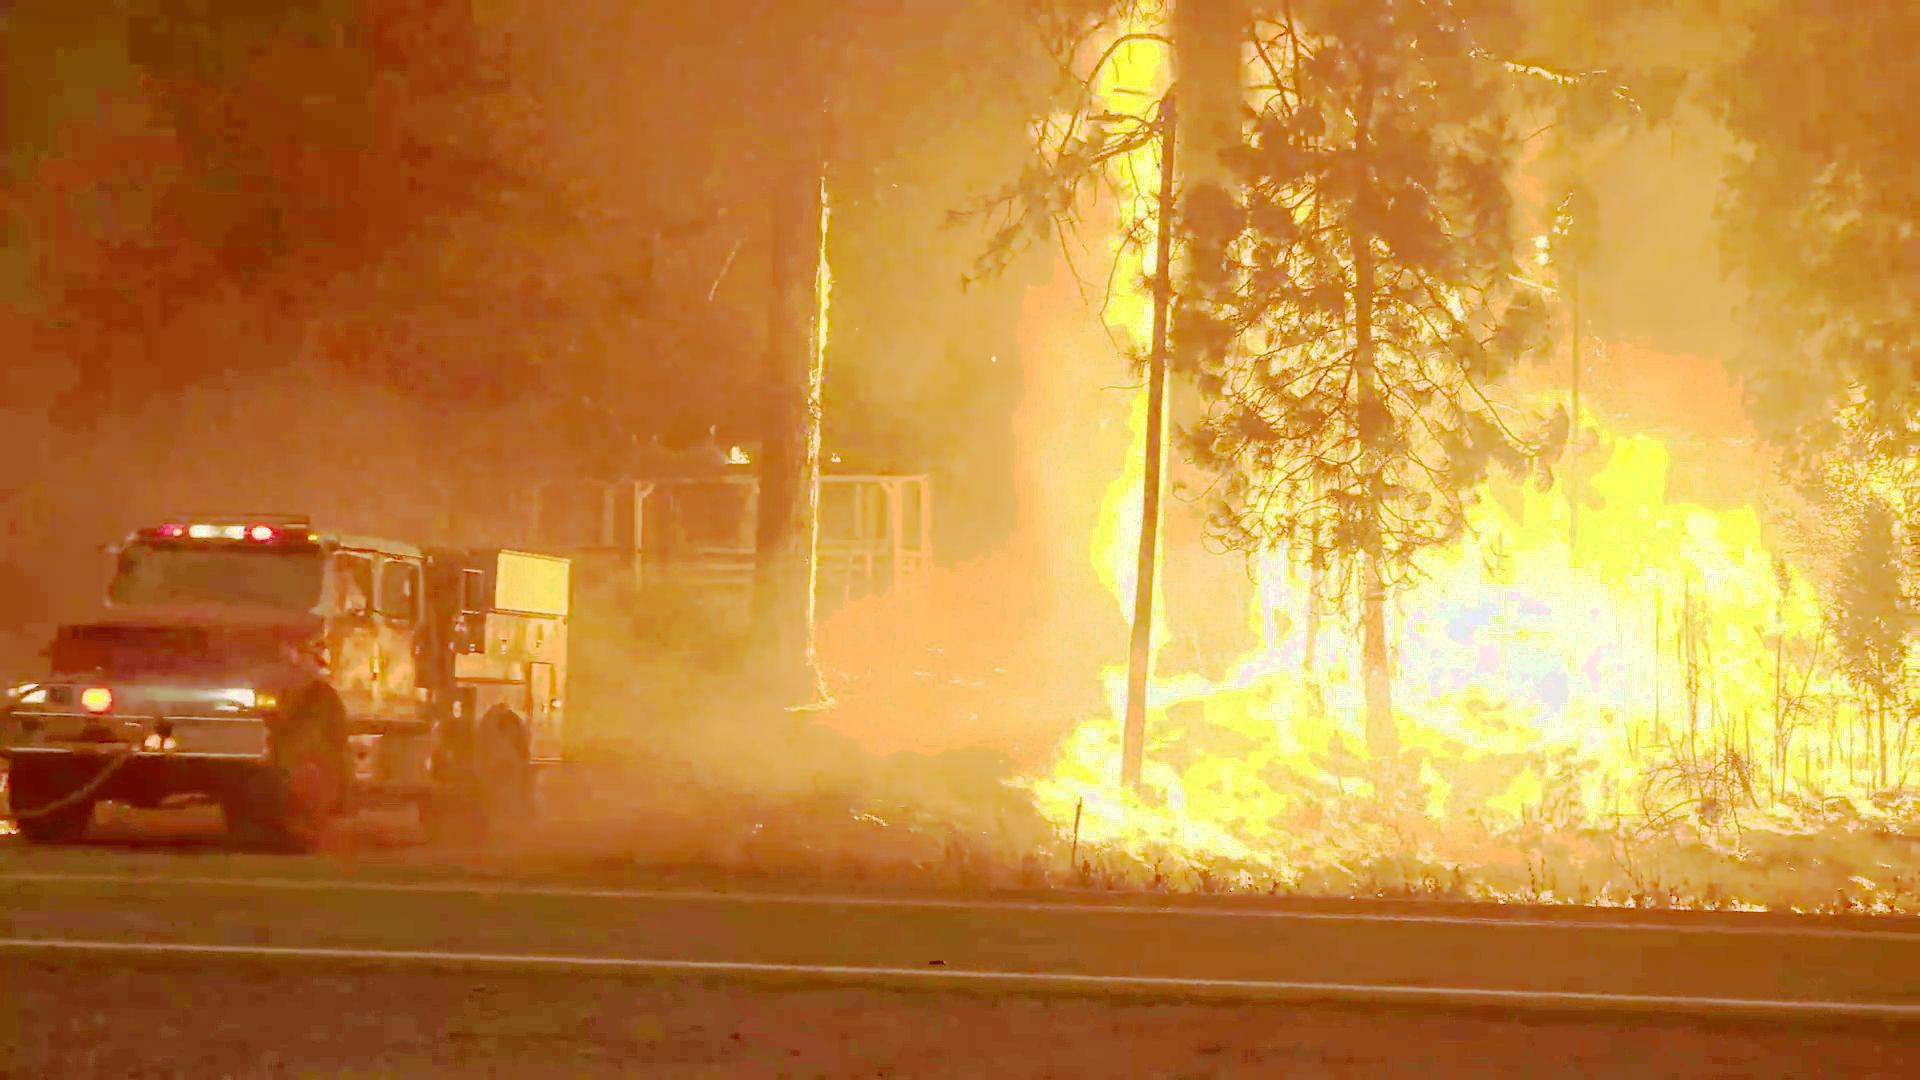fire: (1356, 410, 1783, 835), (1085, 0, 1153, 819), (1098, 599, 1307, 823)
